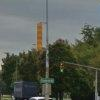Tree: (57, 22, 100, 95)
